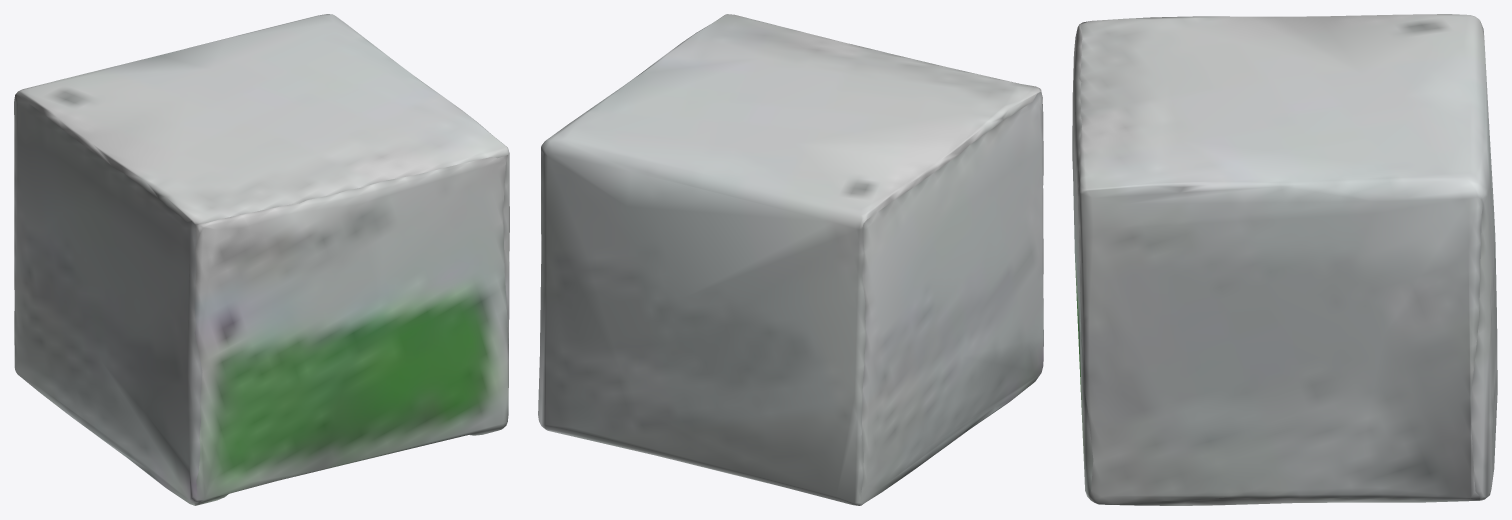
The model's file is Perricone_MD_Hypoallergenic_Firming_Eye_Cream_05_oz-medium.glb.
3 renders of one model, left to right at view 1: azimuth 30°, elevation 25°; view 2: azimuth 150°, elevation 25°; view 3: azimuth 270°, elevation 25°, orthographic. The views are drawn at different scales.
Parts seen in each view (by area): view 1: Perricone_MD_Hypoallergenic_Firming_Eye_Cream_05_oz; view 2: Perricone_MD_Hypoallergenic_Firming_Eye_Cream_05_oz; view 3: Perricone_MD_Hypoallergenic_Firming_Eye_Cream_05_oz.
Boxes of the visible parts, left/top/right/bottom form: Perricone_MD_Hypoallergenic_Firming_Eye_Cream_05_oz: left=14, top=14, right=509, bottom=505; Perricone_MD_Hypoallergenic_Firming_Eye_Cream_05_oz: left=538, top=14, right=1043, bottom=505; Perricone_MD_Hypoallergenic_Firming_Eye_Cream_05_oz: left=1072, top=14, right=1497, bottom=505.
Bounding box in the file's own units: 0.0569 × 0.049 × 0.0572.
1 material, 1 textured.
